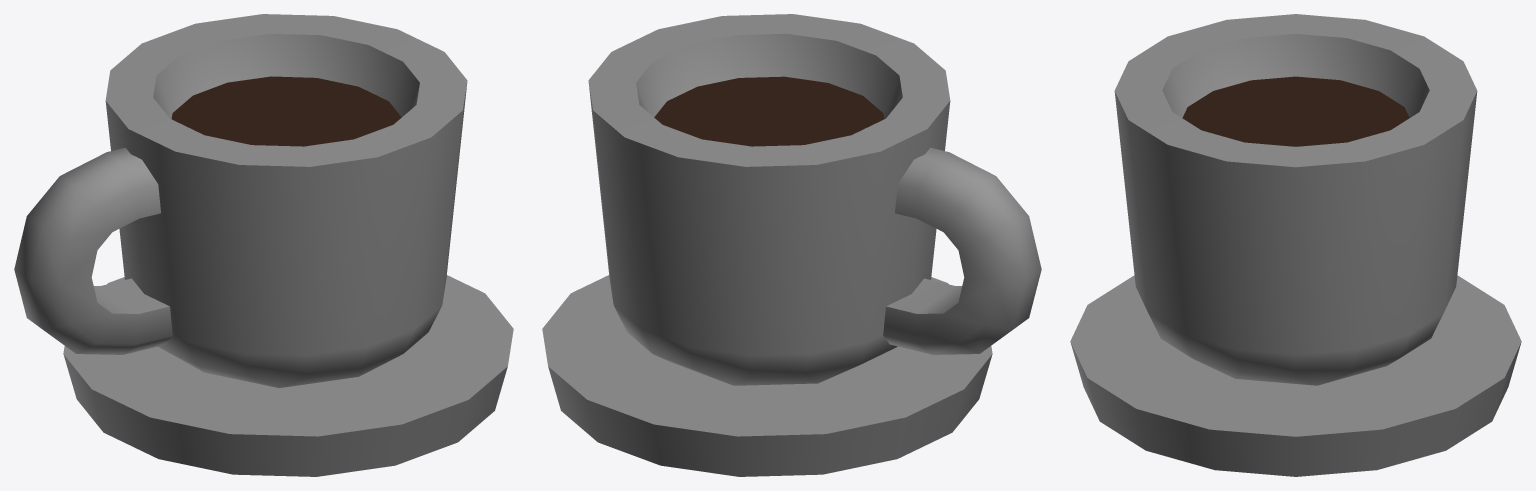
Rendered from cofee_cup.fbx.
The picture shows the model from 3 angles, left to right: view 1: azimuth 30°, elevation 25°; view 2: azimuth 150°, elevation 25°; view 3: azimuth 270°, elevation 25°; orthographic projection.
Visible parts, largest first — view 1: cofee_cup; view 2: cofee_cup; view 3: cofee_cup.
Boxes of the visible parts, <box> form: cofee_cup: <box>14,14,513,476</box>; cofee_cup: <box>542,14,1041,476</box>; cofee_cup: <box>1070,14,1521,476</box>.
Size of the model in its own units: 50.16 by 30.84 by 42.63.
